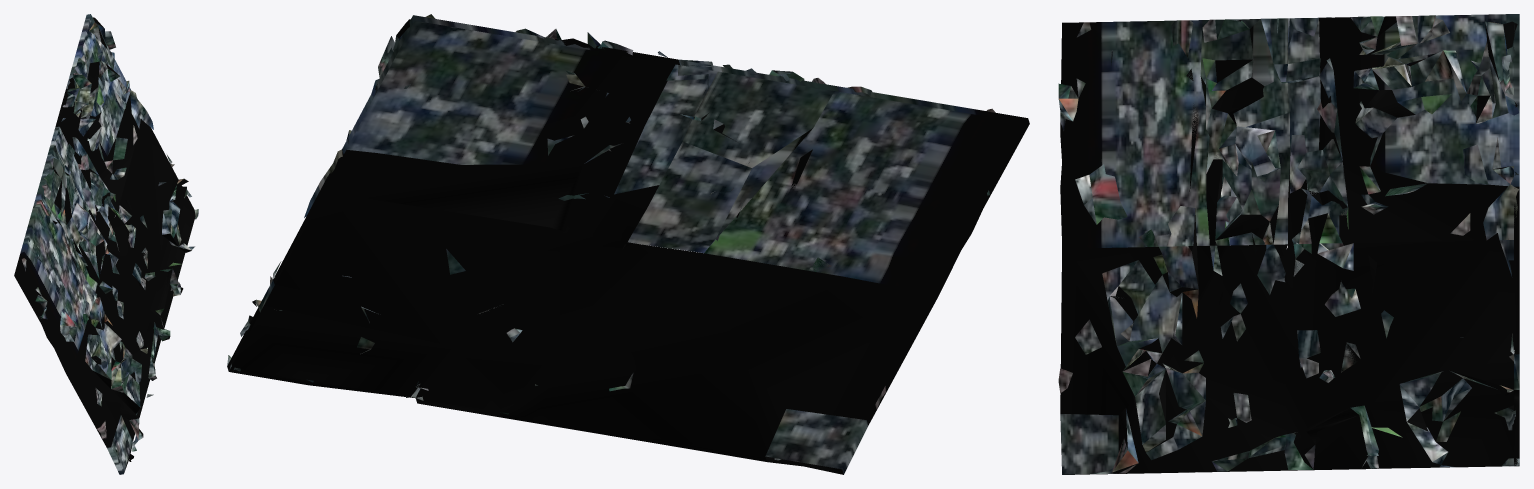
3 views of the same model, side by side, from view 1: azimuth 30°, elevation 25°; view 2: azimuth 150°, elevation 25°; view 3: azimuth 270°, elevation 25° (orthographic). The views are drawn at different scales.
Visible parts, largest first — view 1: node_304362727043615_mesh0; view 2: node_304362727043615_mesh0; view 3: node_304362727043615_mesh0.
Boxes of the visible parts, left/top/right/bottom form: node_304362727043615_mesh0: left=14, top=14, right=198, bottom=474; node_304362727043615_mesh0: left=227, top=14, right=1029, bottom=474; node_304362727043615_mesh0: left=1058, top=14, right=1519, bottom=474.
Bounding box in the file's own units: 1165 × 1165 × 890.
Materials: 1 (1 with a texture image).
